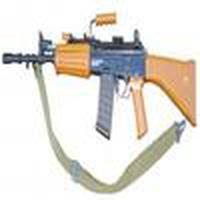gun: (1, 11, 199, 127)
